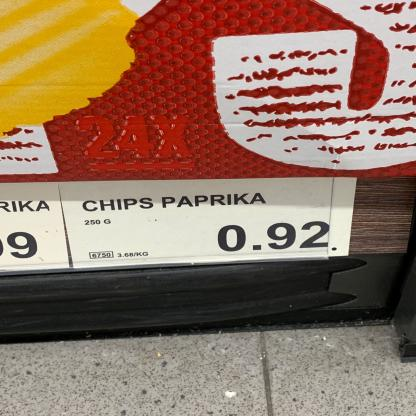prtg: (59, 178, 359, 270), (1, 183, 72, 273)
